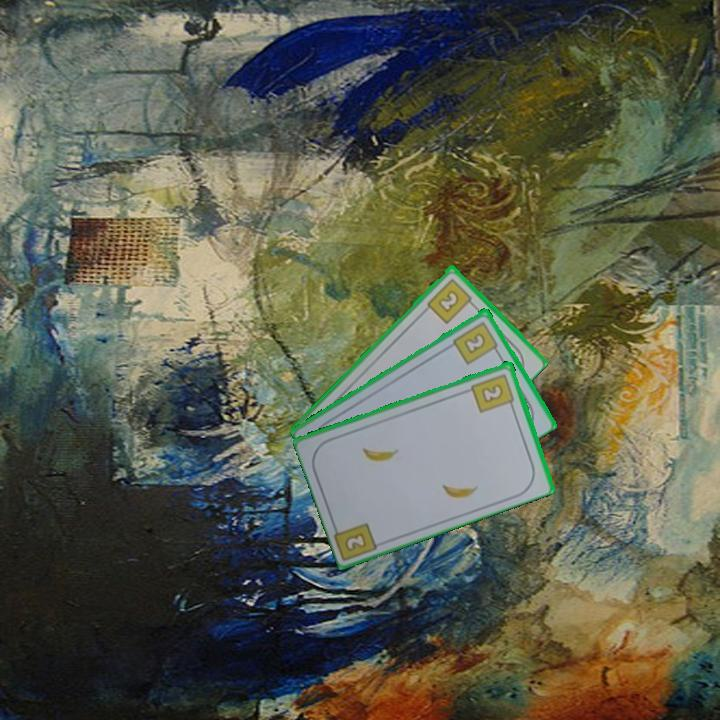2b: (423, 275, 478, 326), (450, 318, 502, 367), (468, 370, 517, 415), (341, 529, 370, 554)
